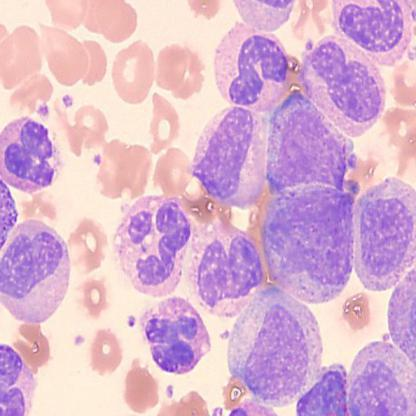Promyelocyte: (228, 287, 328, 409), (268, 92, 354, 198)
